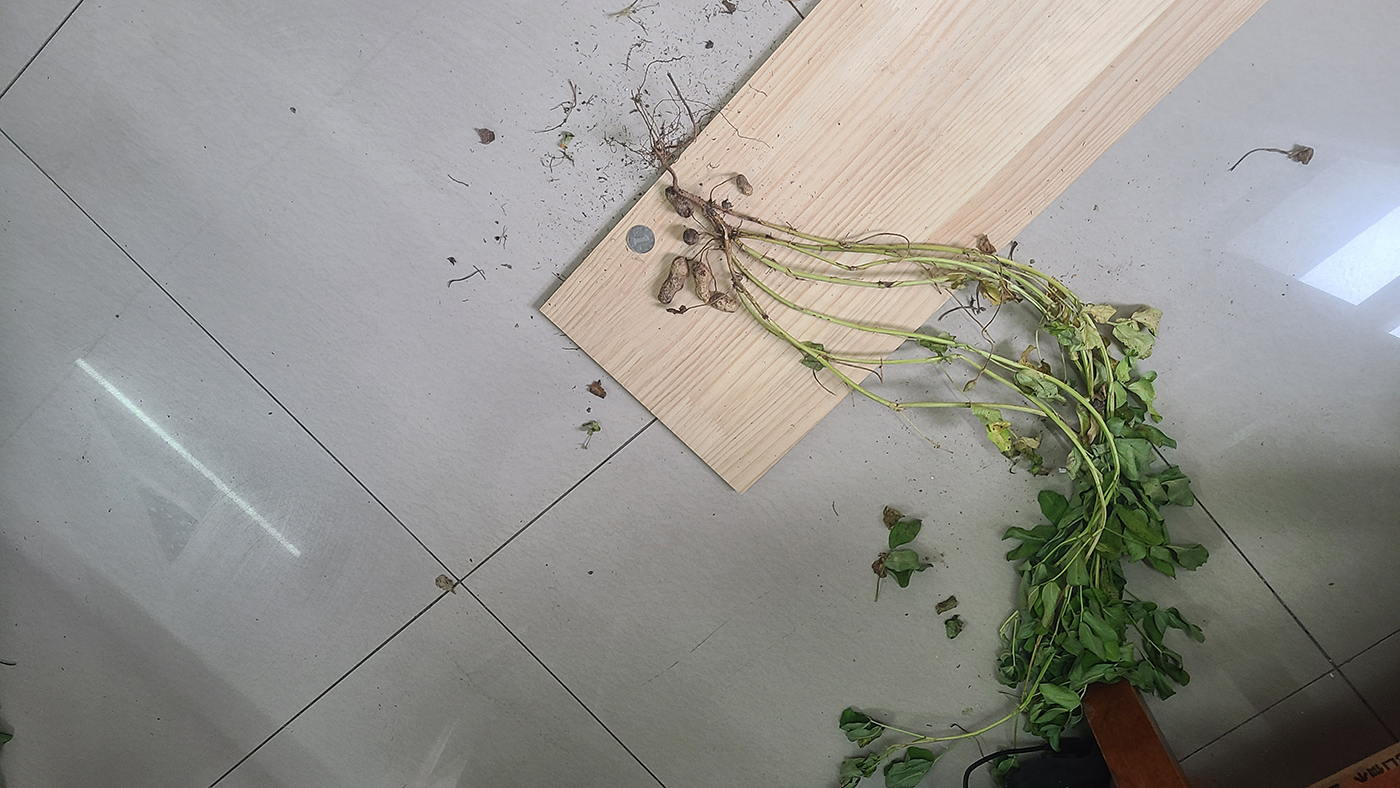h: (711, 293, 737, 313)
l: (658, 255, 690, 304), (665, 186, 695, 218), (691, 262, 712, 303), (737, 174, 754, 196), (683, 228, 699, 246), (666, 305, 687, 315), (721, 198, 732, 210)
